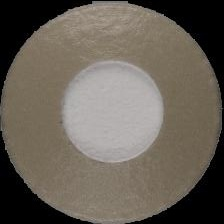0173-0758: (0, 0, 224, 224)
